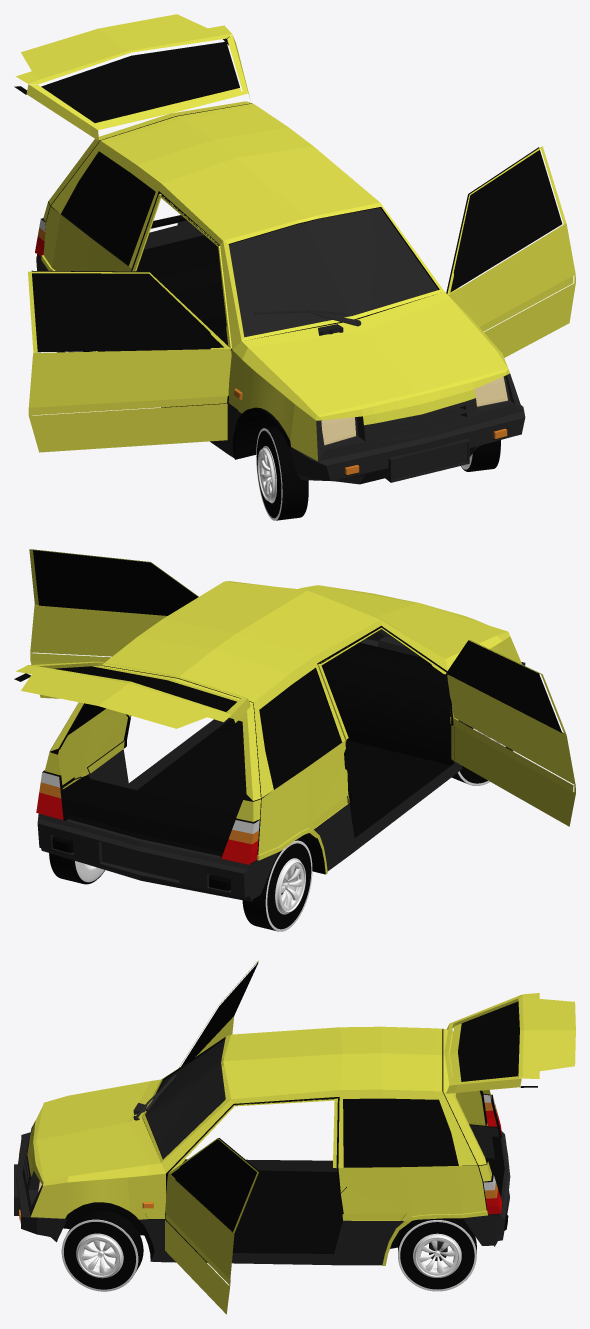
File: hatchBase.glb
The picture shows the model from 3 angles, top to bottom: view 1: azimuth 30°, elevation 25°; view 2: azimuth 150°, elevation 25°; view 3: azimuth 270°, elevation 25°; orthographic projection. The views are drawn at different scales.
Parts seen in each view (by area): view 1: Плоскость, Плоскость.005, Плоскость.004, Плоскость.002, Цилиндр.000, Куб, Плоскость.001; view 2: Плоскость, Плоскость.005, Плоскость.004, Цилиндр.001; view 3: Плоскость, Плоскость.005, Плоскость.004, Цилиндр.000, Плоскость.002, Цилиндр.001, Плоскость.001.
Part boxes in pixels (<box>): Плоскость: <box>35,101,525,484</box>; Плоскость.005: <box>28,146,575,452</box>; Плоскость.004: <box>14,14,249,139</box>; Плоскость.002: <box>229,208,438,337</box>; Цилиндр.000: <box>256,426,500,520</box>; Куб: <box>379,439,469,482</box>; Плоскость.001: <box>249,371,294,440</box>; Плоскость: <box>36,581,525,901</box>; Плоскость.005: <box>29,549,575,826</box>; Плоскость.004: <box>14,661,250,730</box>; Цилиндр.001: <box>49,840,312,931</box>; Плоскость: <box>16,1026,510,1265</box>; Плоскость.005: <box>165,961,258,1314</box>; Плоскость.004: <box>444,993,575,1093</box>; Цилиндр.000: <box>61,1210,143,1291</box>; Плоскость.002: <box>145,1039,225,1158</box>; Цилиндр.001: <box>398,1218,476,1291</box>; Плоскость.001: <box>67,1177,128,1213</box>.
Size of the model in its own units: 5.82 by 2.61 by 6.13.
